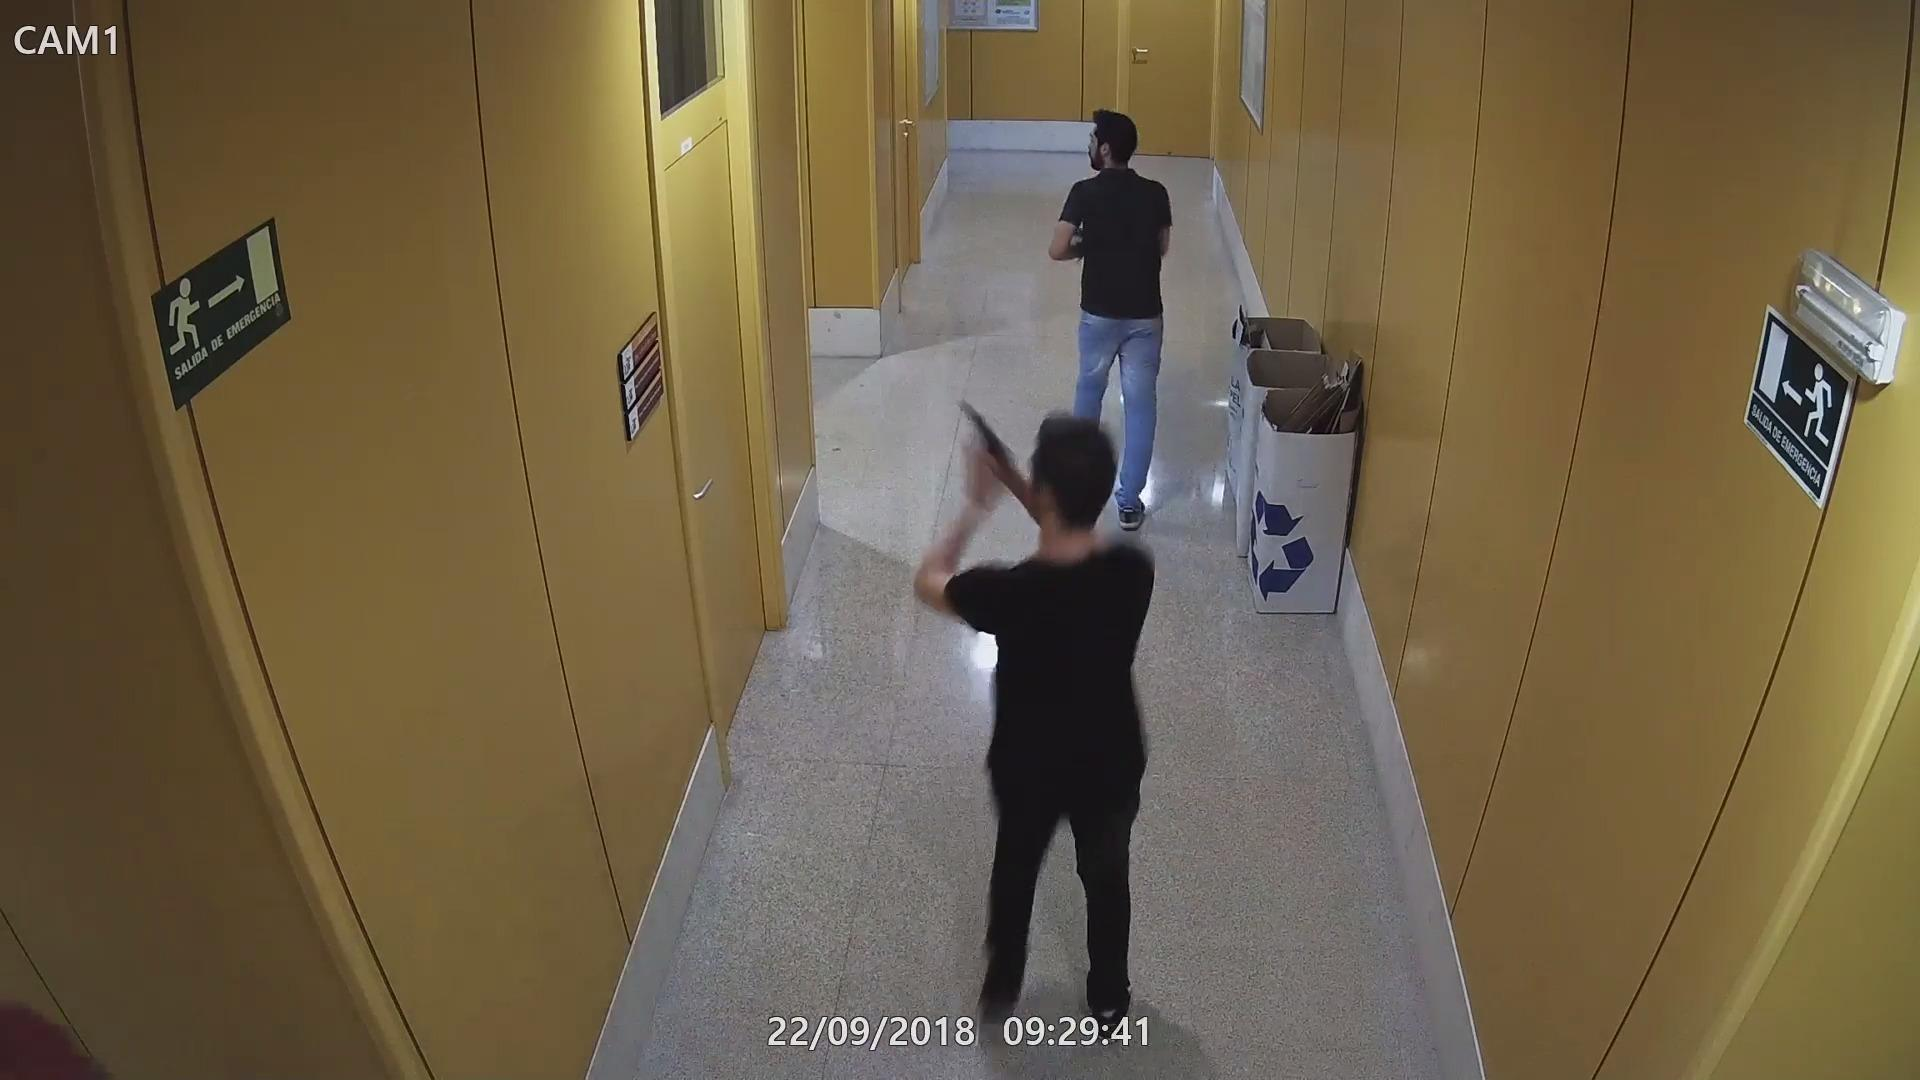Handgun: (956, 397, 1018, 497)
